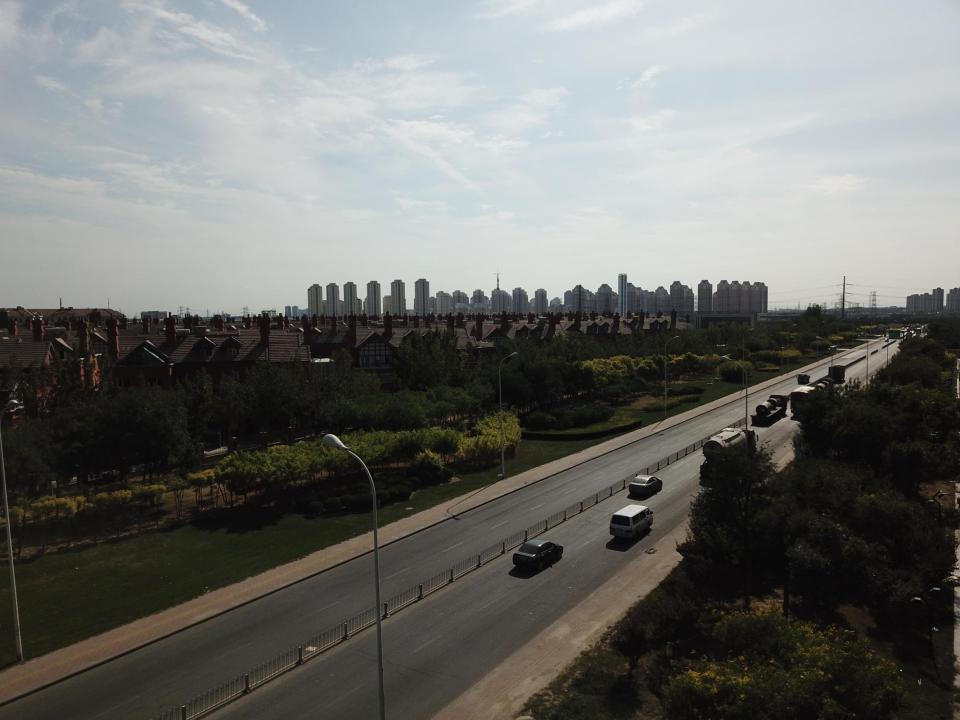car: (512, 539, 564, 570), (628, 474, 662, 496)
truck: (700, 427, 758, 479), (790, 378, 833, 420), (750, 394, 789, 425), (828, 365, 845, 381), (796, 373, 810, 384)
van: (609, 504, 653, 540), (859, 332, 869, 337)
